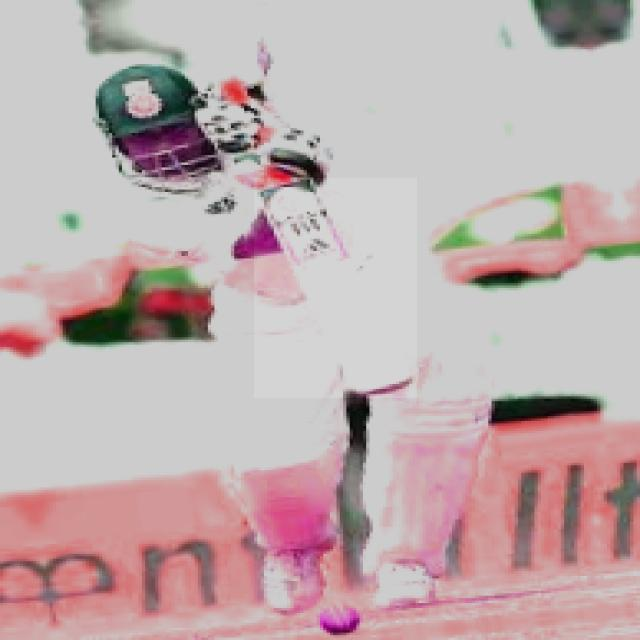bat: (259, 179, 418, 400)
toe: (355, 381, 416, 402)
